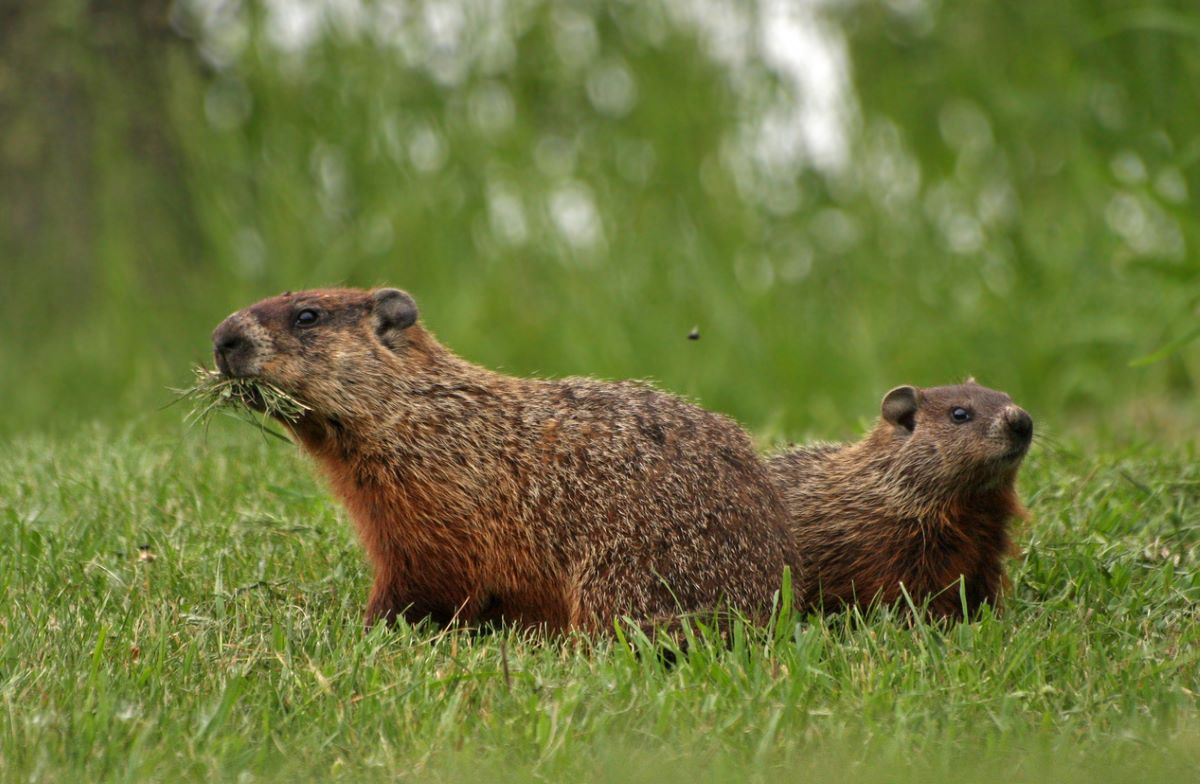gopher: (194, 284, 799, 639), (764, 329, 1042, 627)
